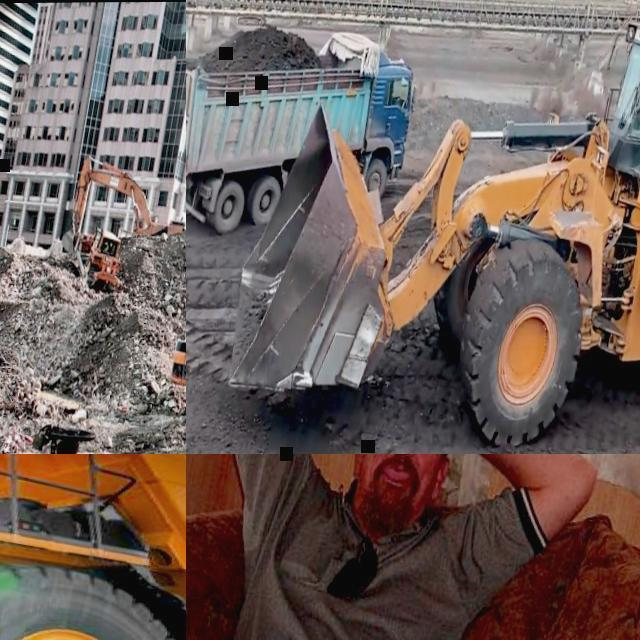machinery: (213, 0, 640, 454), (186, 0, 425, 262), (0, 454, 186, 640), (58, 151, 186, 275), (70, 224, 132, 292)
no_mask: (344, 454, 447, 532)
no_vest: (210, 471, 485, 640)
person: (186, 454, 618, 640), (103, 240, 112, 252)
vest: (104, 244, 110, 252)
